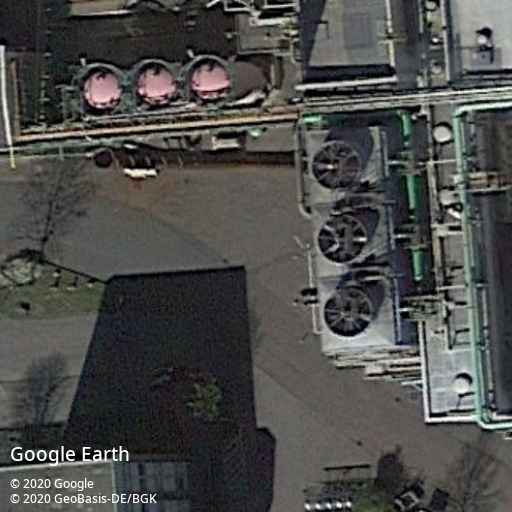Vent: (316, 214, 368, 266), (322, 288, 374, 339), (311, 140, 361, 191)
